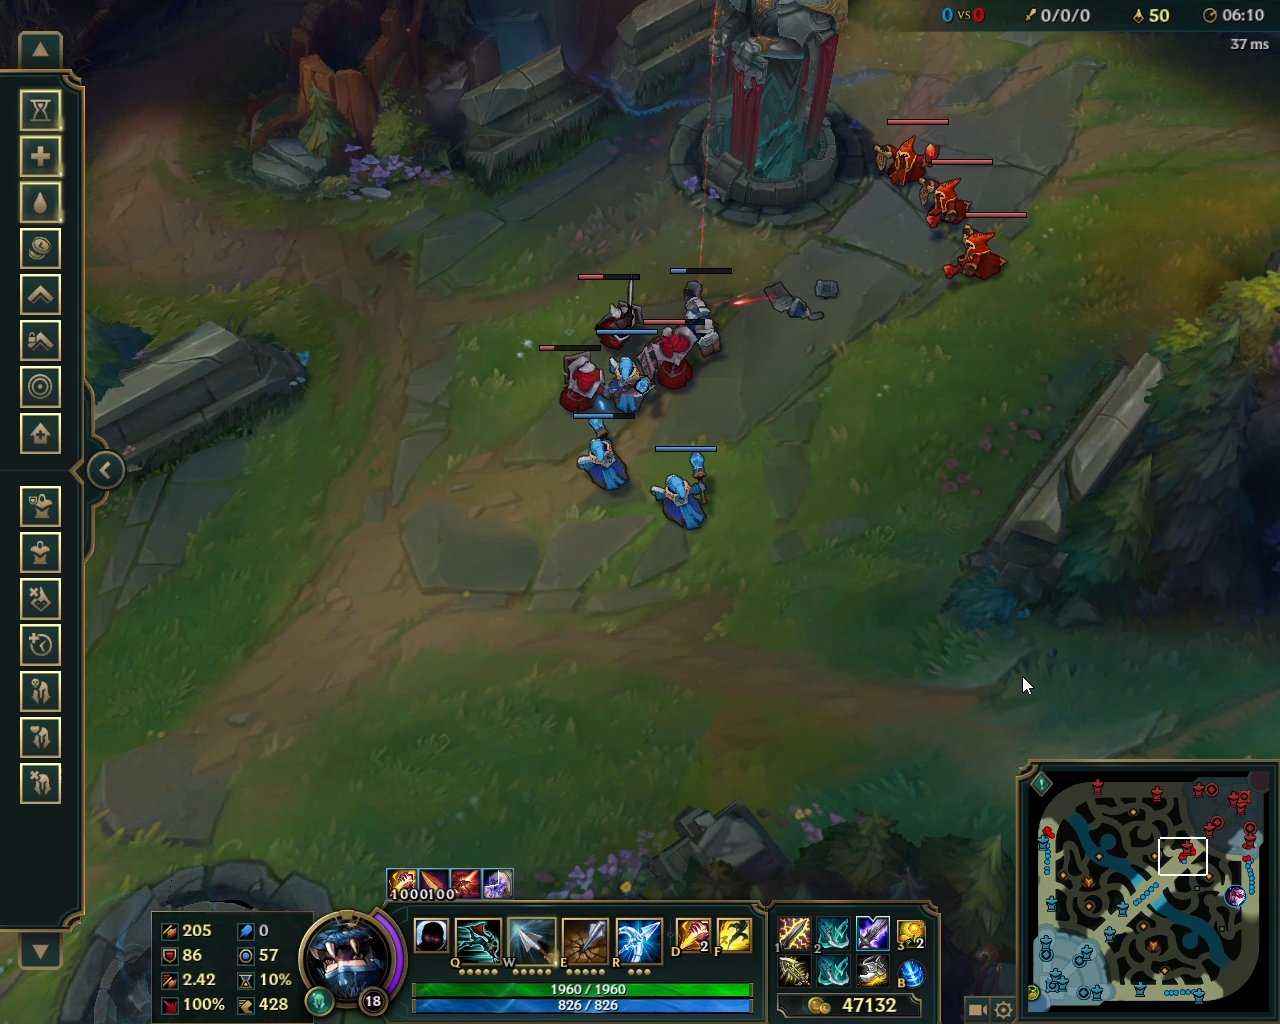EnemyMinion: (940, 212, 1023, 285), (867, 119, 949, 192), (914, 160, 993, 235), (538, 344, 616, 417), (578, 274, 649, 347), (638, 318, 705, 391)
Tower: (693, 1, 853, 214)
